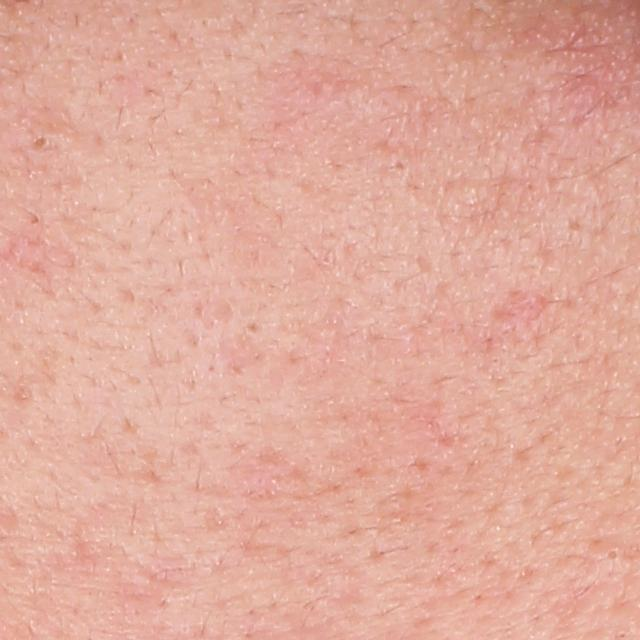comedo: (24, 131, 59, 156), (390, 155, 417, 182), (242, 317, 264, 342), (603, 547, 623, 563)
